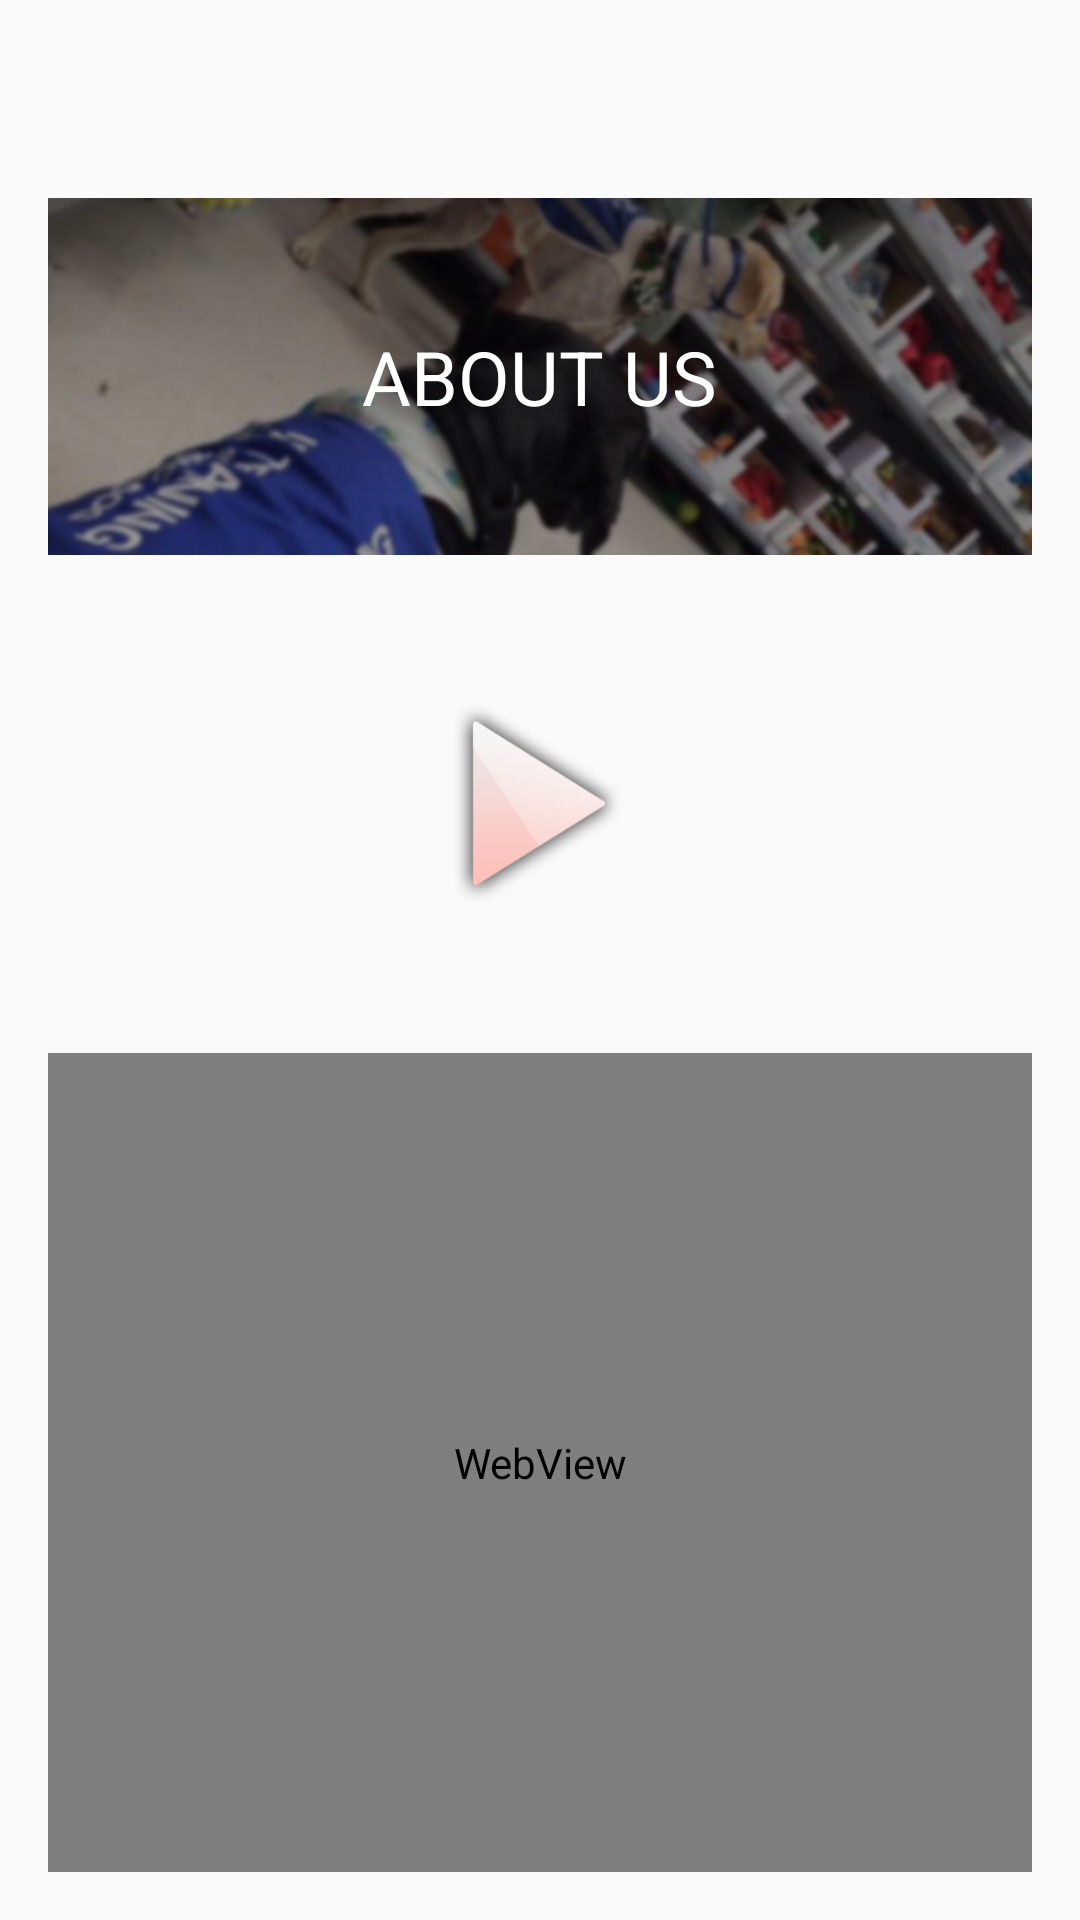

Screen size 1080px x 1920px. Icon name, then its center in pixels as [x,y]:
play: [536,803]
